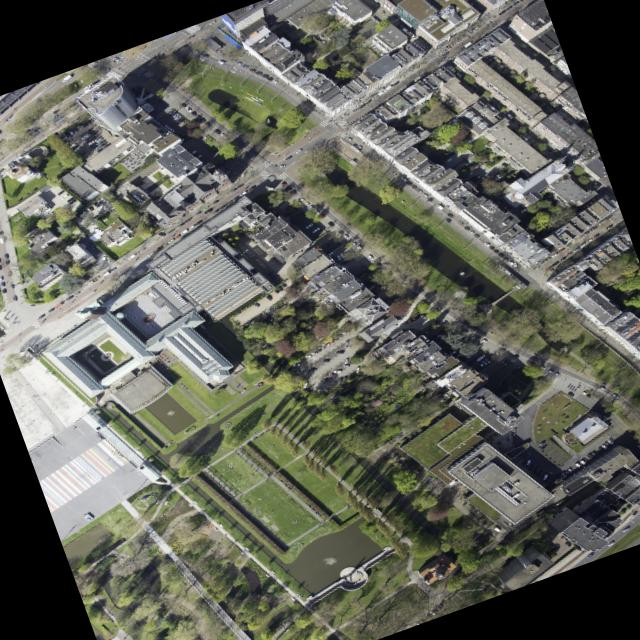large-vehicle: (494, 264, 528, 290)
small-vehicle: (459, 42, 471, 51), (60, 75, 72, 83), (446, 66, 456, 74), (382, 85, 392, 93), (53, 302, 63, 309), (475, 355, 485, 362), (597, 219, 607, 226), (168, 111, 177, 118), (83, 87, 92, 94), (58, 108, 67, 115), (313, 229, 322, 236), (100, 271, 109, 278), (203, 208, 212, 215), (176, 222, 185, 229), (179, 229, 188, 236), (467, 352, 476, 359), (390, 81, 399, 88), (97, 139, 105, 146), (435, 204, 443, 211), (586, 552, 594, 559), (228, 188, 237, 194), (311, 228, 320, 234), (304, 223, 313, 229), (519, 207, 528, 213), (588, 226, 597, 232), (578, 242, 587, 248), (492, 527, 501, 533), (497, 10, 506, 16), (176, 119, 185, 125), (356, 104, 365, 110), (173, 115, 181, 121), (167, 110, 175, 116), (91, 80, 99, 86), (89, 132, 97, 138), (91, 134, 99, 140), (93, 136, 101, 142), (80, 134, 88, 140), (88, 142, 96, 148), (67, 103, 75, 109), (51, 109, 59, 115), (400, 28, 408, 34), (520, 136, 528, 142), (364, 99, 372, 105), (488, 101, 496, 107), (238, 191, 246, 197), (236, 183, 244, 189), (65, 295, 73, 301), (224, 201, 232, 207), (211, 199, 219, 205), (210, 210, 218, 216), (193, 220, 201, 226), (166, 229, 174, 235), (166, 238, 174, 244), (146, 252, 154, 258), (127, 254, 135, 260), (414, 189, 422, 195), (420, 193, 428, 199), (409, 185, 417, 191), (399, 177, 407, 183), (608, 199, 616, 205), (366, 255, 374, 261), (355, 246, 363, 252), (326, 243, 334, 249), (557, 248, 565, 254), (419, 315, 427, 321), (544, 266, 552, 272), (551, 261, 559, 267), (468, 360, 476, 366), (471, 326, 479, 332), (448, 350, 456, 356), (621, 527, 629, 533), (559, 472, 567, 478), (550, 547, 558, 553), (511, 1, 519, 7), (505, 5, 513, 11), (56, 190, 64, 196), (189, 150, 197, 156), (192, 152, 200, 158), (74, 204, 82, 210), (102, 143, 110, 149), (68, 199, 76, 205), (440, 52, 448, 58), (413, 76, 421, 82), (399, 86, 407, 92), (370, 95, 378, 101), (60, 194, 68, 200), (340, 260, 349, 265), (317, 34, 324, 40), (67, 130, 74, 136), (78, 150, 85, 156), (95, 138, 102, 144), (100, 141, 107, 147), (91, 144, 98, 150), (510, 128, 517, 134), (231, 196, 238, 202), (218, 205, 225, 211), (72, 291, 79, 297), (602, 194, 609, 200), (276, 286, 283, 292), (607, 541, 614, 547), (483, 242, 490, 248), (605, 225, 612, 231), (572, 247, 579, 253), (480, 360, 487, 366), (482, 373, 489, 379), (337, 230, 344, 236), (606, 439, 613, 445), (600, 444, 607, 450), (538, 441, 545, 447), (546, 544, 553, 550), (573, 462, 580, 468), (66, 197, 73, 203), (254, 71, 262, 76), (171, 114, 179, 119), (111, 57, 119, 62), (83, 85, 91, 90), (84, 129, 92, 134), (64, 133, 72, 138), (64, 139, 72, 144), (70, 145, 78, 150), (86, 141, 94, 146), (78, 133, 86, 138), (82, 137, 90, 142), (73, 95, 81, 100), (247, 186, 255, 191), (183, 218, 191, 223), (275, 279, 283, 284), (213, 130, 221, 135), (546, 370, 554, 375), (510, 12, 518, 17), (175, 117, 183, 122), (92, 203, 100, 208), (547, 147, 553, 153), (335, 255, 341, 261), (338, 253, 344, 259), (302, 382, 308, 388), (632, 439, 638, 445), (545, 478, 551, 484), (484, 174, 490, 180), (587, 453, 593, 459), (0, 236, 4, 245), (23, 130, 30, 135), (266, 77, 273, 82), (261, 74, 268, 79), (217, 60, 224, 65), (201, 54, 208, 59), (192, 50, 199, 55), (185, 108, 192, 113), (180, 103, 187, 108), (68, 144, 75, 149), (73, 147, 80, 152), (87, 130, 94, 135), (85, 139, 92, 144), (266, 271, 273, 276), (50, 115, 57, 120), (41, 121, 48, 126), (33, 127, 40, 132), (529, 144, 536, 149), (93, 83, 100, 88), (506, 114, 513, 119), (484, 97, 491, 102), (327, 222, 334, 227), (317, 214, 324, 219), (285, 186, 292, 191), (280, 182, 287, 187), (494, 105, 501, 110), (202, 206, 209, 211), (187, 225, 194, 230), (242, 249, 249, 254), (500, 110, 507, 115), (405, 181, 412, 186), (597, 190, 604, 195), (504, 207, 511, 212), (502, 205, 509, 210), (491, 176, 498, 181), (342, 235, 349, 240), (326, 252, 333, 257), (271, 275, 278, 280), (362, 281, 369, 286), (332, 257, 337, 264), (401, 284, 408, 289), (265, 296, 272, 301), (472, 234, 479, 239), (467, 230, 474, 235), (550, 253, 557, 258), (592, 234, 599, 239), (585, 239, 592, 244), (495, 200, 502, 205), (497, 202, 504, 207), (559, 257, 566, 262), (446, 213, 453, 218), (506, 261, 513, 266), (496, 253, 503, 258), (528, 362, 535, 367), (432, 308, 439, 313), (461, 358, 468, 363), (453, 354, 460, 359), (500, 361, 507, 366), (611, 394, 618, 399), (603, 442, 610, 447), (421, 331, 428, 336), (411, 292, 418, 297), (557, 475, 564, 480), (553, 478, 560, 483), (540, 445, 547, 450), (501, 538, 508, 543), (219, 134, 226, 139), (564, 542, 571, 547), (559, 535, 566, 540), (467, 83, 474, 88), (345, 137, 352, 142), (303, 149, 310, 154), (284, 156, 291, 161), (242, 152, 249, 157), (434, 606, 441, 611), (428, 611, 435, 616), (78, 213, 85, 218), (179, 121, 186, 126), (163, 125, 170, 130), (183, 124, 190, 129), (184, 126, 191, 131), (94, 146, 101, 151), (96, 148, 103, 153), (96, 200, 103, 205), (75, 215, 82, 220), (194, 115, 201, 120), (406, 82, 413, 87), (437, 604, 445, 608), (157, 233, 165, 237), (334, 334, 342, 338), (566, 393, 574, 397), (472, 6, 478, 11), (467, 2, 473, 7), (79, 124, 85, 129), (72, 129, 78, 134), (518, 124, 524, 129), (308, 205, 314, 210), (477, 91, 483, 96), (516, 132, 522, 137), (523, 128, 529, 133), (356, 145, 362, 150), (313, 210, 319, 215), (304, 202, 310, 207), (290, 190, 296, 195), (101, 255, 106, 261), (47, 308, 53, 313), (495, 174, 501, 179), (564, 162, 570, 167), (542, 154, 548, 159), (515, 215, 521, 220), (351, 242, 357, 247), (361, 266, 366, 272), (374, 287, 379, 293), (253, 303, 259, 308), (481, 177, 487, 182), (488, 246, 494, 251), (463, 226, 469, 231), (445, 218, 451, 223), (492, 249, 498, 254), (478, 363, 484, 368), (512, 262, 517, 268), (502, 257, 508, 262), (356, 350, 361, 356), (600, 404, 606, 409), (597, 447, 603, 452), (484, 359, 490, 364), (538, 471, 543, 477), (533, 468, 539, 473), (504, 17, 510, 22), (473, 87, 479, 92), (455, 73, 461, 78), (295, 149, 301, 154), (247, 155, 253, 160), (199, 118, 205, 123), (168, 128, 174, 133), (87, 207, 93, 212), (579, 460, 585, 465), (3, 254, 8, 260), (271, 80, 278, 84), (249, 69, 256, 73), (241, 65, 248, 69), (235, 62, 242, 66), (192, 55, 199, 59), (500, 163, 507, 167), (155, 247, 162, 251), (565, 253, 572, 257), (431, 338, 438, 342), (553, 373, 560, 377), (538, 366, 545, 370), (580, 392, 587, 396), (598, 387, 605, 391), (512, 355, 519, 359), (474, 336, 481, 340), (317, 346, 324, 350), (99, 198, 106, 202), (195, 155, 202, 159), (307, 369, 316, 372), (335, 351, 344, 354), (89, 118, 94, 123), (85, 120, 90, 125), (397, 24, 402, 29), (586, 180, 591, 185), (376, 263, 381, 268), (635, 444, 640, 449), (343, 359, 348, 364), (344, 340, 349, 345), (575, 386, 580, 391), (628, 434, 633, 439), (564, 470, 569, 475), (542, 475, 547, 480), (525, 460, 530, 465), (567, 468, 572, 473), (511, 119, 517, 123), (269, 274, 275, 278), (299, 199, 305, 203), (194, 212, 200, 216), (174, 235, 180, 239), (91, 245, 95, 251), (38, 315, 44, 319), (12, 296, 16, 302), (0, 282, 4, 288), (7, 271, 11, 277), (460, 175, 468, 178), (554, 154, 560, 158), (280, 284, 286, 288), (273, 290, 279, 294), (426, 198, 432, 202), (583, 232, 589, 236), (321, 360, 329, 363), (355, 367, 359, 373), (343, 346, 351, 349), (341, 332, 349, 335), (330, 338, 338, 341), (338, 378, 342, 384), (333, 371, 341, 374), (481, 339, 487, 343), (309, 352, 317, 355), (585, 394, 591, 398), (590, 452, 596, 456), (204, 123, 210, 127), (190, 112, 196, 116), (5, 260, 9, 266), (278, 165, 285, 168), (465, 172, 472, 175), (292, 364, 299, 367), (304, 355, 311, 358), (320, 40, 325, 44), (82, 123, 87, 127), (380, 11, 385, 15), (286, 207, 290, 212), (9, 285, 13, 290), (1, 289, 5, 294), (582, 176, 587, 180), (321, 379, 327, 382), (390, 298, 398, 300), (342, 377, 346, 381), (436, 335, 444, 337), (321, 344, 329, 346), (91, 229, 99, 231), (463, 0, 468, 3), (0, 231, 3, 236), (393, 295, 400, 297), (347, 362, 354, 364), (329, 374, 336, 376), (314, 350, 321, 352), (343, 365, 349, 367), (327, 341, 333, 343), (518, 0, 524, 2), (0, 276, 2, 281)
